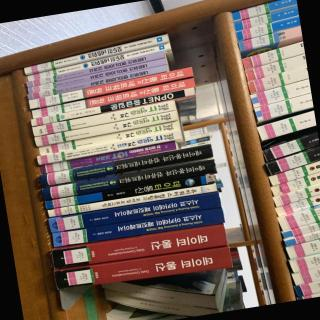book-spine: (50, 225, 227, 269), (39, 144, 213, 187), (54, 247, 232, 289), (47, 192, 221, 234), (41, 159, 216, 200), (28, 67, 193, 109), (51, 207, 224, 247), (31, 77, 195, 119), (31, 87, 195, 127), (23, 34, 169, 75), (47, 184, 216, 218), (44, 174, 207, 209), (26, 42, 171, 81), (33, 110, 178, 148), (32, 100, 176, 137), (25, 51, 165, 88), (27, 64, 168, 100), (27, 58, 167, 94), (37, 130, 181, 165), (38, 121, 180, 156), (41, 141, 176, 173)
